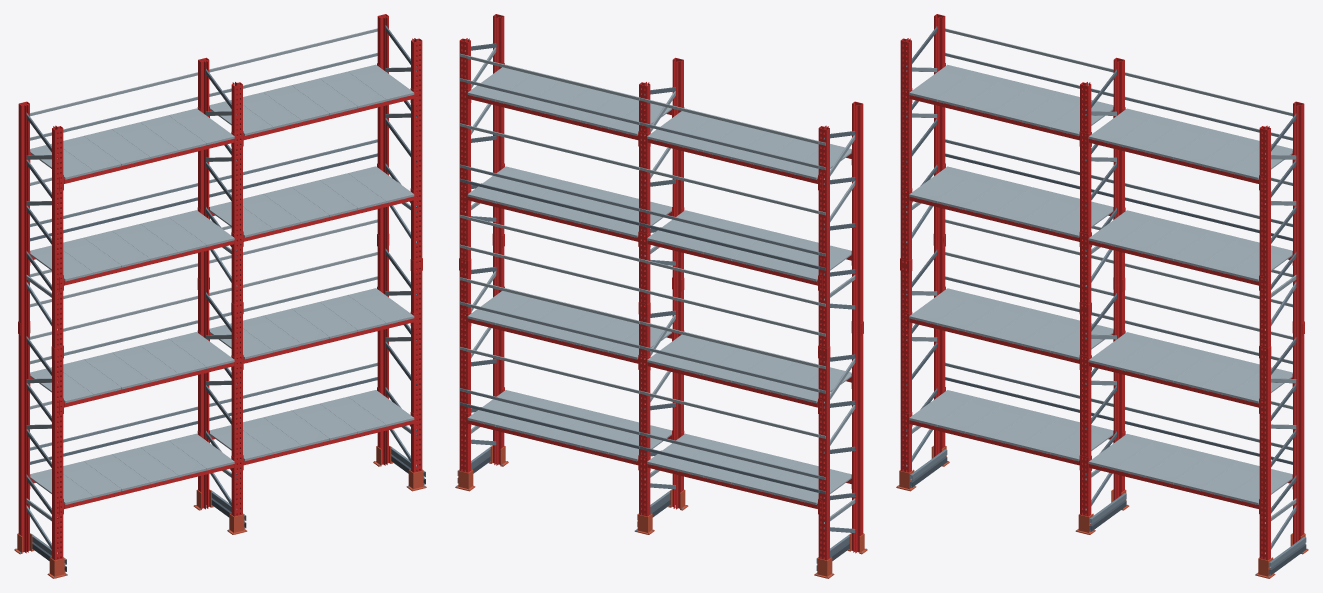
The model's file is SM_ShelfShelfEmptyx1_Red_D.fbx.
The picture shows the model from 3 angles, left to right: view 1: azimuth 30°, elevation 25°; view 2: azimuth 150°, elevation 25°; view 3: azimuth 330°, elevation 25°; orthographic projection.
Parts seen in each view (by area): view 1: SM_ShelfShelfEmptyx1_Red_D; view 2: SM_ShelfShelfEmptyx1_Red_D; view 3: SM_ShelfShelfEmptyx1_Red_D.
Boxes of the visible parts, x1,y1,x2,y2 form: SM_ShelfShelfEmptyx1_Red_D: [14, 14, 426, 578]; SM_ShelfShelfEmptyx1_Red_D: [455, 14, 867, 578]; SM_ShelfShelfEmptyx1_Red_D: [896, 14, 1308, 578].
Bounding box in the file's own units: 647 × 739 × 118.
